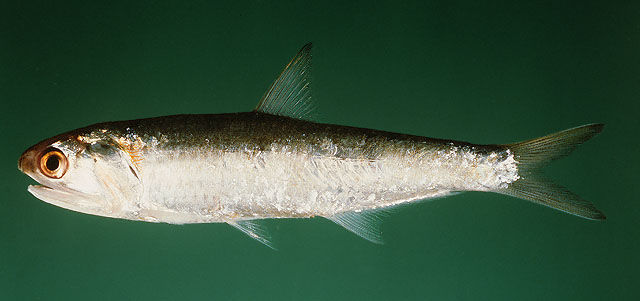fish: (16, 41, 607, 253)
